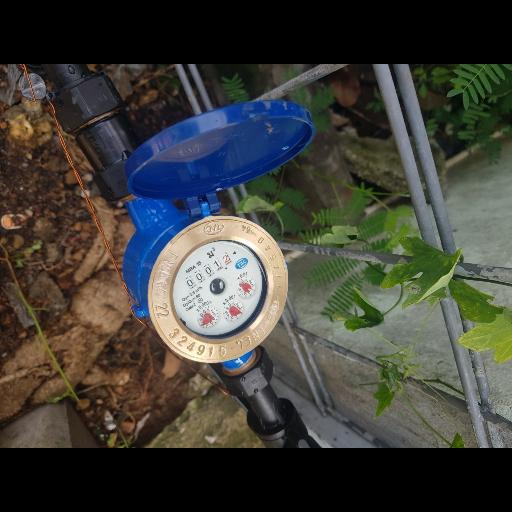0: (192, 269, 206, 283), (184, 276, 197, 290), (202, 263, 215, 277)
1: (211, 257, 223, 271)
2: (220, 252, 233, 266)
border_water_meter_number: (180, 248, 237, 294)
